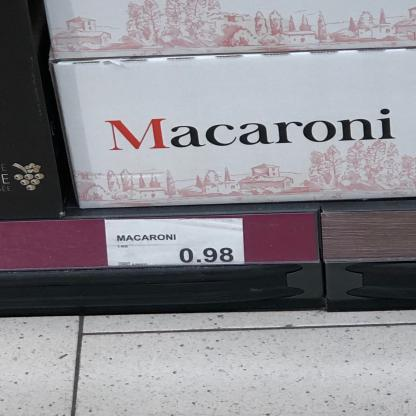prtg: (106, 219, 245, 266)
